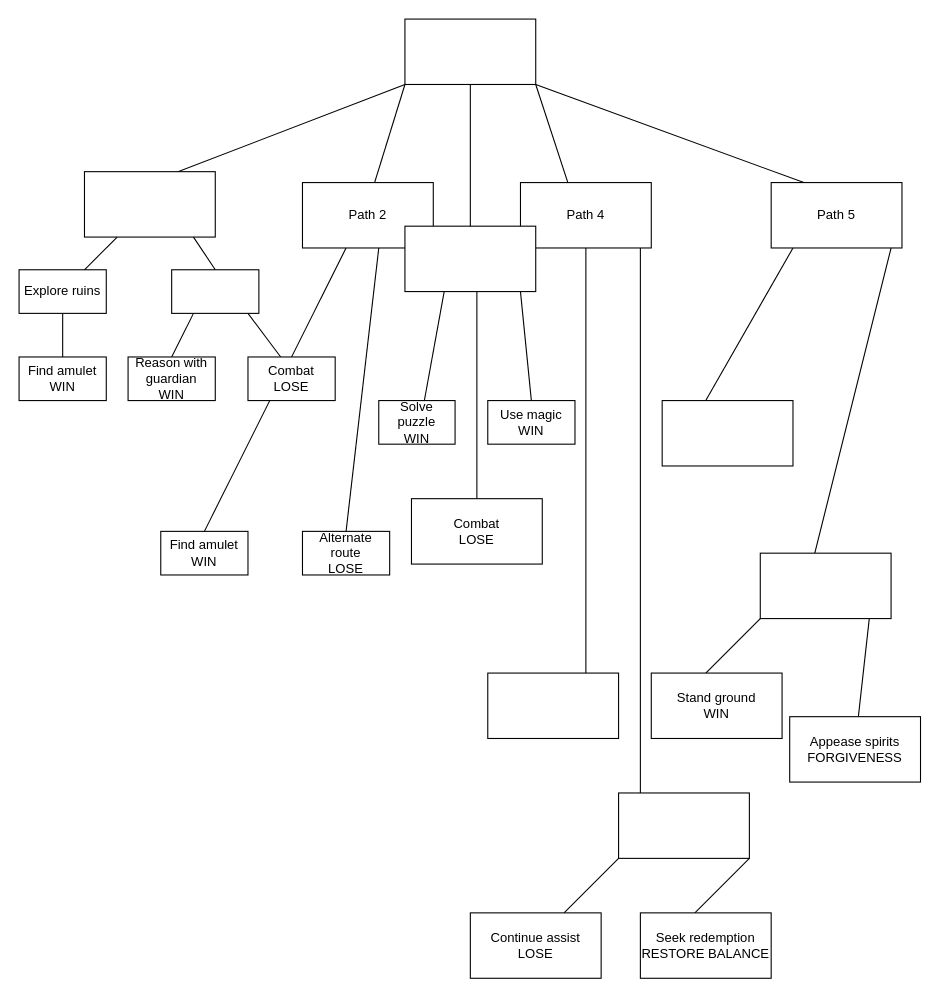
The diagram is 940 pixels wide and 997 high, and some of its shapes have lost their labels. Each missing label, with the box of its shape:
Challenge authority: (759, 552, 891, 619)
Embrace teachings WIN: (661, 399, 793, 466)
Encounter guardian: (171, 269, 259, 313)
Path 1: (83, 171, 215, 237)
Path 3: (404, 225, 536, 292)
Resist allure WIN: (487, 672, 619, 738)
Start: (404, 18, 536, 84)
Succumb temptations: (617, 792, 749, 858)
